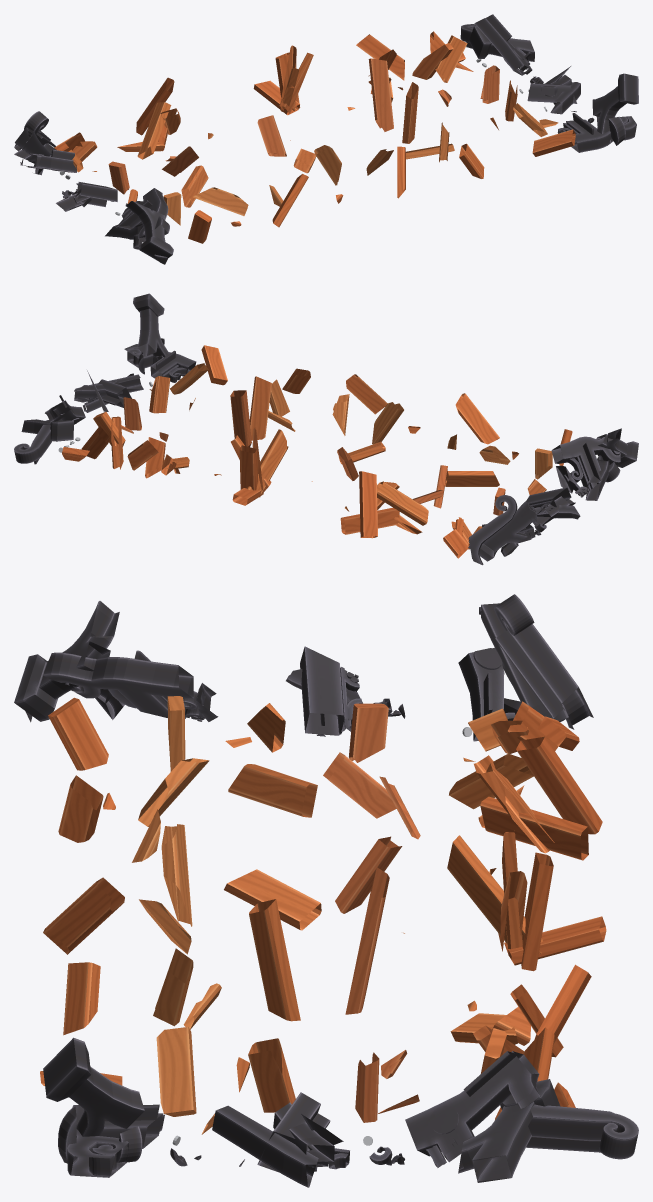
The model's file is houdini_park_bench_prop_pieces.glb.
3 views of the same model, one above another, from view 1: azimuth 30°, elevation 25°; view 2: azimuth 150°, elevation 25°; view 3: azimuth 270°, elevation 25° (orthographic). The views are drawn at different scales.
Visible parts, largest first — view 1: LOD0; view 2: LOD0; view 3: LOD0.
Part boxes in pixels (<box>): LOD0: <box>14,14,638,264</box>; LOD0: <box>14,293,638,565</box>; LOD0: <box>14,594,638,1187</box>.
Size of the model in its own units: 3.54 by 0.4536 by 1.88.
Materials: 3 (3 with a texture image).
